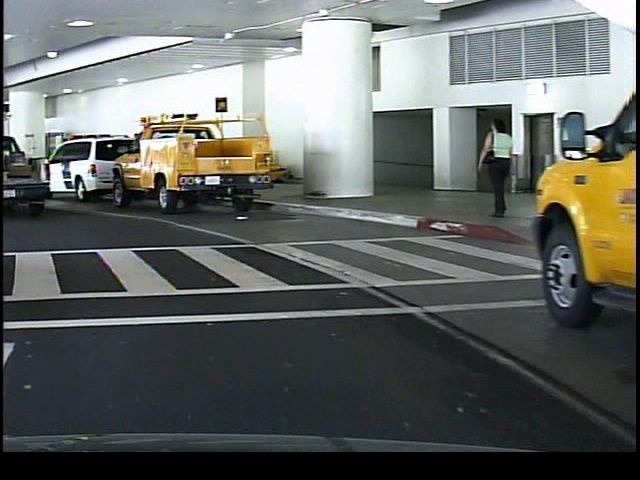person: (473, 113, 514, 224)
